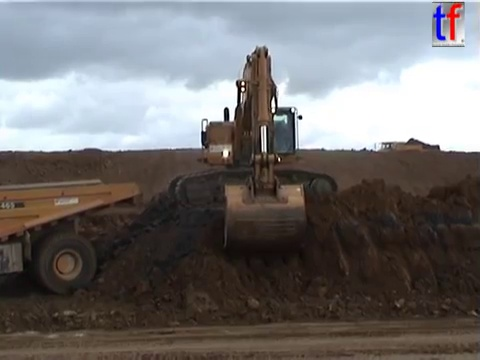excavator: (164, 42, 341, 252)
truck: (1, 177, 145, 298), (372, 139, 442, 164)
